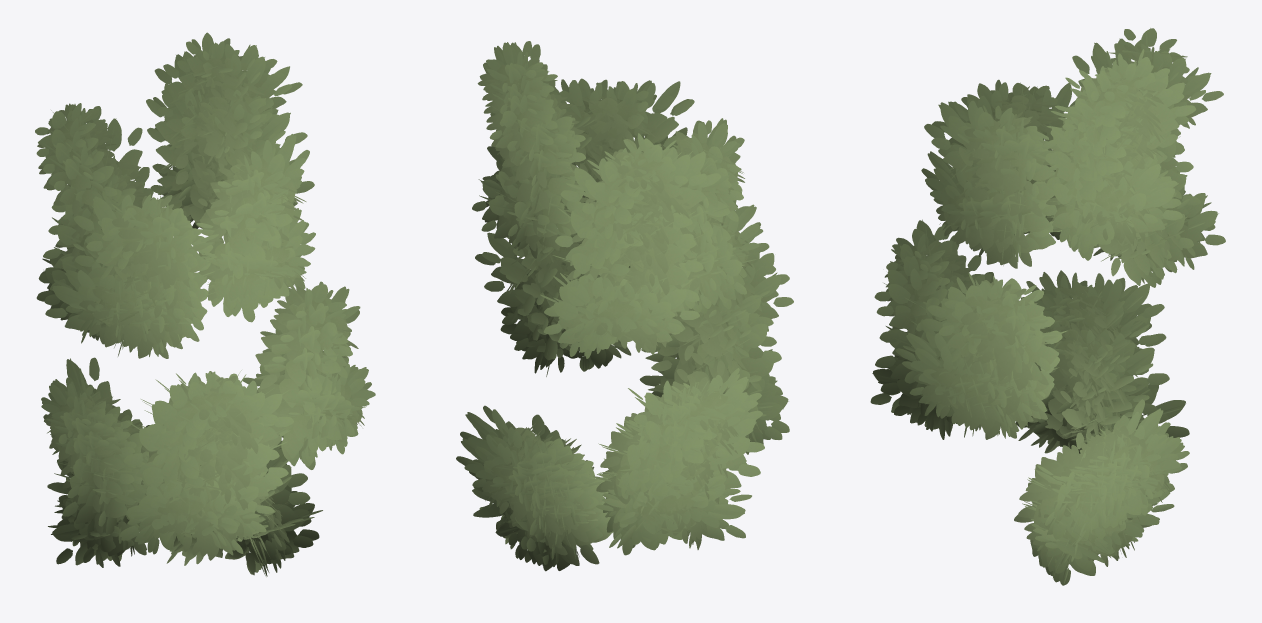
File: CommonTree_3.gltf
3 views of the same model, side by side, from view 1: azimuth 30°, elevation 25°; view 2: azimuth 150°, elevation 25°; view 3: azimuth 270°, elevation 25° (orthographic).
Visible parts, largest first — view 1: CommonTree_3; view 2: CommonTree_3; view 3: CommonTree_3.
Boxes of the visible parts, x1,y1,x2,y2 form: CommonTree_3: (35,32,375,576); CommonTree_3: (456,41,793,571); CommonTree_3: (870,28,1225,585).
Bounding box in the file's own units: 4.06 × 6.61 × 4.24.
1 material, 1 textured.
